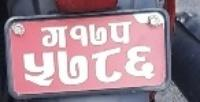1: (69, 23, 89, 49)
5: (21, 51, 56, 88)
6: (124, 45, 155, 83)
7: (56, 50, 89, 89), (89, 20, 108, 48)
8: (91, 46, 123, 84)
ga: (39, 24, 69, 49)
pa: (108, 19, 134, 46)
